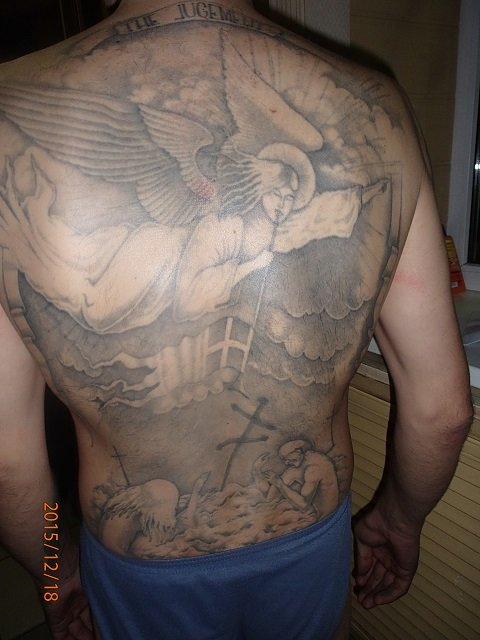tatu1_angel: (56, 90, 397, 297)
